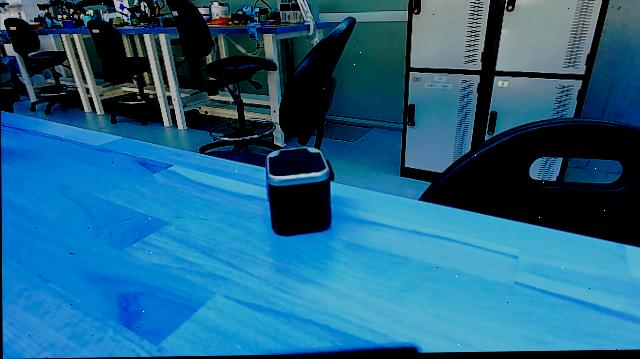adapter: (260, 144, 332, 239)
